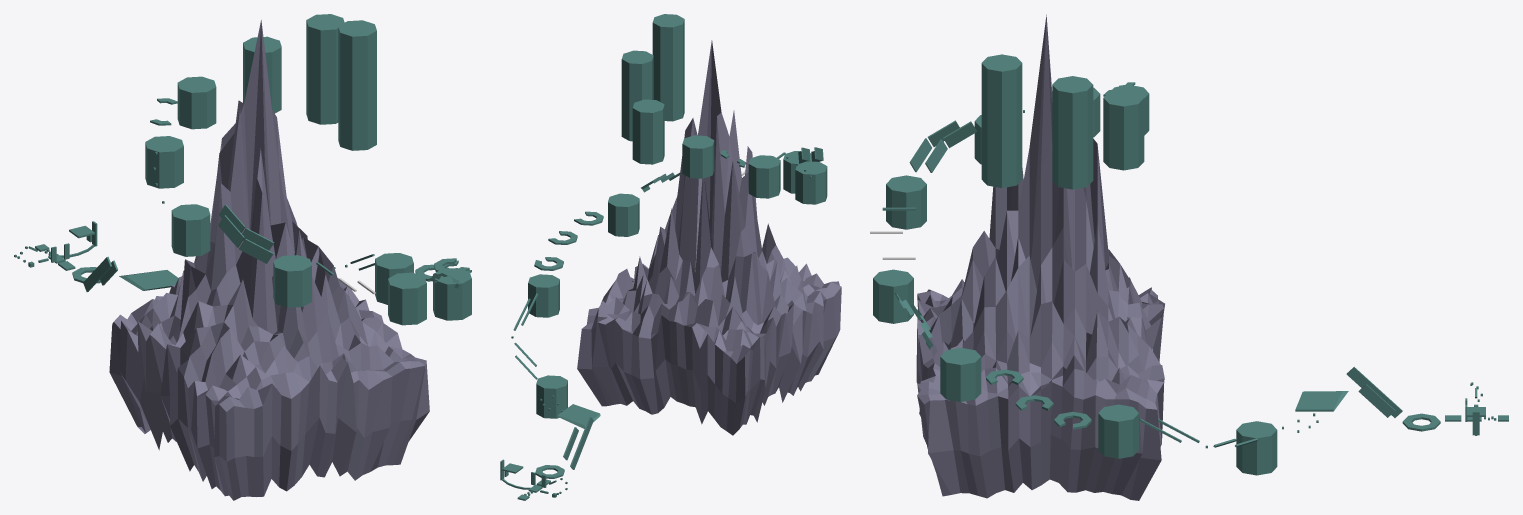
File: mapa.glb
The picture shows the model from 3 angles, left to right: view 1: azimuth 30°, elevation 25°; view 2: azimuth 150°, elevation 25°; view 3: azimuth 270°, elevation 25°; orthographic projection. The views are drawn at different scales.
Visible parts, largest first — view 1: Plane, Cylinder.012, Cylinder.011, Cylinder.007, Cylinder.009, Cylinder.006, Cylinder.005, Cylinder.008, Cylinder.004, Cylinder.010, Cylinder.003, Cube.025; view 2: Plane, Cylinder.012, Cylinder.011, Cylinder.010, Cylinder.008, Cylinder.009, Cylinder.007, Cylinder.004, Cylinder.003, Cylinder.002, Cube.025, Cylinder.006; view 3: Plane, Cylinder.012, Cylinder.011, Cylinder.010, Cylinder.004, Cylinder.003, Cylinder.002, Cylinder.006, Cylinder.005, Cube.025.
Boxes of the visible parts, x1=… form: Plane: x1=109, y1=20, x2=429, y2=500; Cylinder.012: x1=338, y1=20, x2=376, y2=150; Cylinder.011: x1=306, y1=14, x2=344, y2=124; Cylinder.007: x1=171, y1=204, x2=210, y2=256; Cylinder.009: x1=177, y1=76, x2=216, y2=129; Cylinder.006: x1=273, y1=255, x2=311, y2=307; Cylinder.005: x1=388, y1=272, x2=426, y2=325; Cylinder.008: x1=145, y1=136, x2=183, y2=188; Cylinder.004: x1=433, y1=268, x2=471, y2=320; Cylinder.010: x1=243, y1=36, x2=281, y2=113; Cylinder.003: x1=375, y1=253, x2=413, y2=304; Cube.025: x1=119, y1=270, x2=178, y2=290; Plane: x1=577, y1=40, x2=841, y2=435; Cylinder.012: x1=652, y1=14, x2=684, y2=121; Cylinder.011: x1=621, y1=50, x2=653, y2=141; Cylinder.010: x1=632, y1=99, x2=664, y2=164; Cylinder.008: x1=748, y1=155, x2=780, y2=198; Cylinder.009: x1=682, y1=135, x2=714, y2=178; Cylinder.007: x1=795, y1=161, x2=827, y2=204; Cylinder.004: x1=608, y1=193, x2=639, y2=236; Cylinder.003: x1=528, y1=274, x2=559, y2=317; Cylinder.002: x1=536, y1=375, x2=567, y2=418; Cube.025: x1=557, y1=404, x2=600, y2=428; Cylinder.006: x1=783, y1=151, x2=811, y2=193; Plane: x1=916, y1=14, x2=1164, y2=500; Cylinder.012: x1=981, y1=54, x2=1022, y2=187; Cylinder.011: x1=1052, y1=76, x2=1093, y2=189; Cylinder.010: x1=1103, y1=89, x2=1144, y2=170; Cylinder.004: x1=940, y1=347, x2=981, y2=401; Cylinder.003: x1=1098, y1=404, x2=1138, y2=458; Cylinder.002: x1=1236, y1=421, x2=1277, y2=475; Cylinder.006: x1=886, y1=175, x2=926, y2=229; Cylinder.005: x1=873, y1=269, x2=913, y2=323; Cube.025: x1=1295, y1=391, x2=1348, y2=411.
Size of the model in its own units: 365 by 484 by 631.
